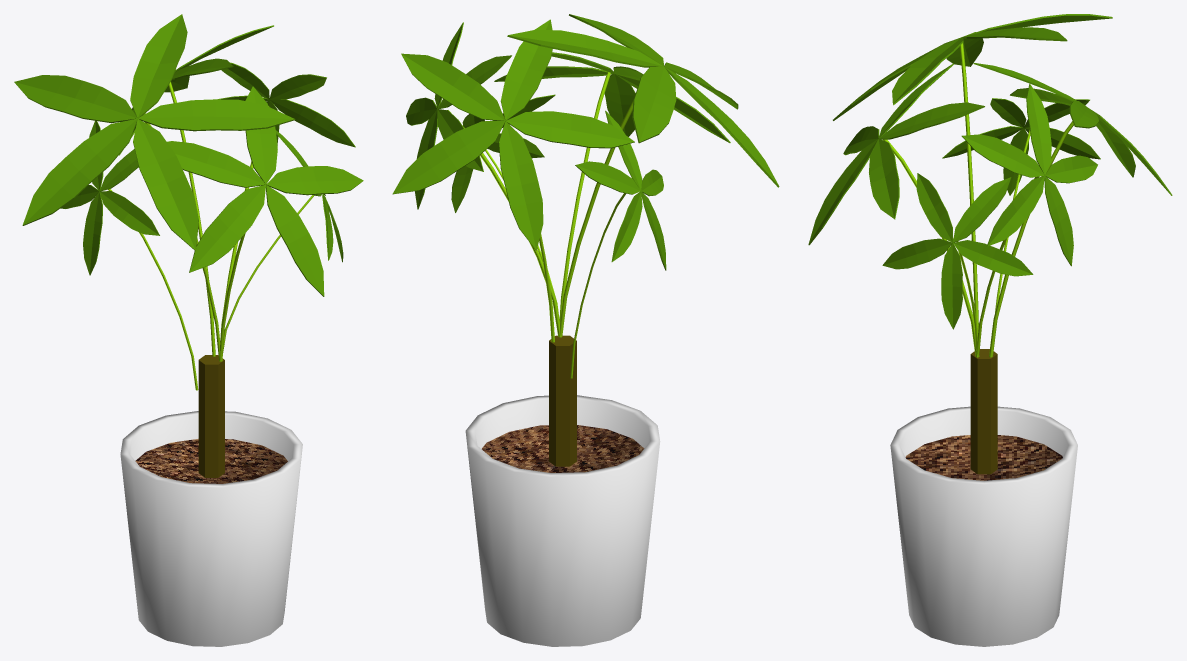
Rendered from pachira.glb.
3 views of the same model, side by side, from view 1: azimuth 30°, elevation 25°; view 2: azimuth 150°, elevation 25°; view 3: azimuth 270°, elevation 25° (orthographic). The views are drawn at different scales.
Parts seen in each view (by area): view 1: Leaf (×6), Pot, Cylinder, BézierCurve.004, BézierCurve.003; view 2: Pot, Leaf (×6), Cylinder, BézierCurve.002, BézierCurve, BézierCurve.005; view 3: Pot, Leaf (×6), Cylinder, BézierCurve.002, BézierCurve.004, BézierCurve.
Part boxes in pixels (box(x1,y1,x2,y2)): Leaf (×6): box(14, 14, 363, 296); Pot: box(120, 411, 302, 646); Cylinder: box(198, 355, 224, 477); BézierCurve.004: box(168, 82, 215, 356); BézierCurve.003: box(108, 189, 198, 390); Pot: box(465, 395, 660, 646); Leaf (×6): box(392, 14, 779, 270); Cylinder: box(549, 335, 576, 466); BézierCurve.002: box(559, 100, 633, 336); BézierCurve: box(559, 72, 610, 337); BézierCurve.005: box(447, 110, 560, 337); Pot: box(890, 406, 1077, 646); Leaf (×6): box(808, 14, 1172, 329); Cylinder: box(970, 349, 997, 474); BézierCurve.002: box(959, 43, 978, 357); BézierCurve.004: box(989, 121, 1073, 357); BézierCurve: box(883, 139, 979, 357).
Size of what is drawn, in the model's own units: 0.6003 by 0.9561 by 0.5433.
Materials: 5 (1 with a texture image).
